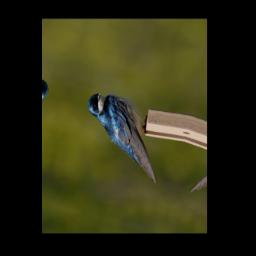Swallow: (71, 86, 177, 184)
